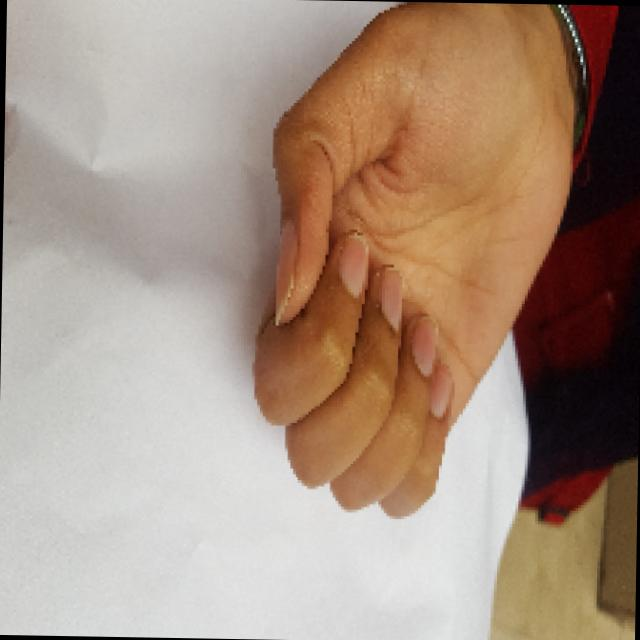Nail: (274, 219, 296, 323), (338, 233, 368, 296), (412, 317, 436, 375), (379, 266, 401, 328), (428, 365, 451, 417)
